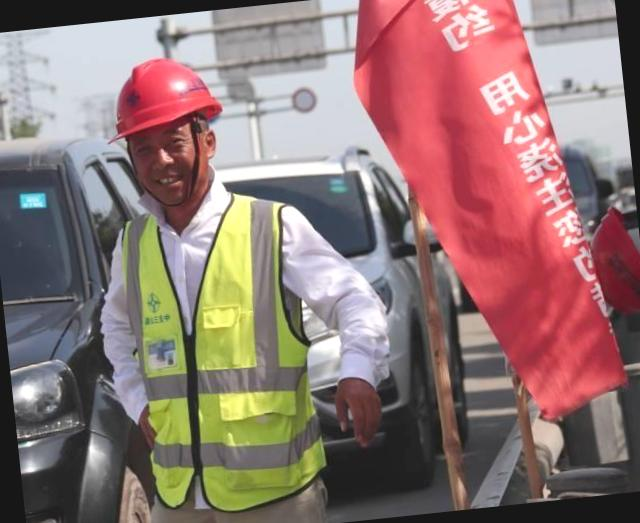helmet: (90, 43, 232, 153)
person: (70, 32, 413, 523)
